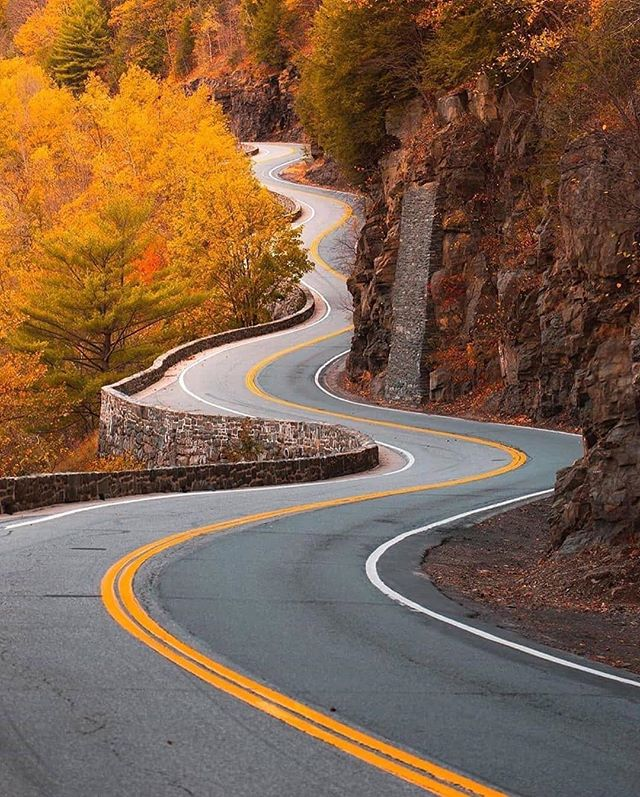road: (1, 137, 617, 776)
rocks: (408, 95, 640, 635)
vegetation: (1, 82, 251, 499)
